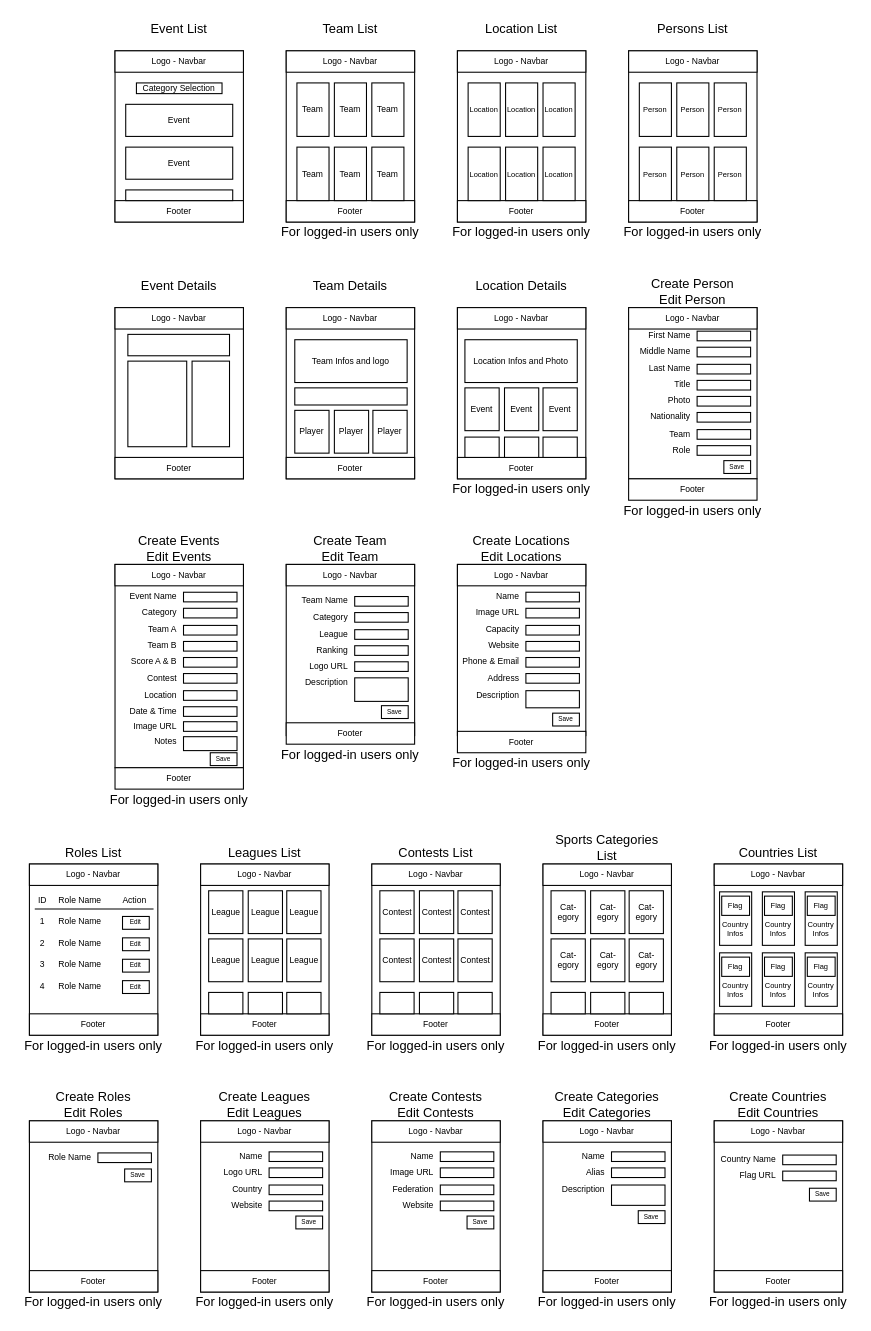
The diagram is 871 pixels wide and 1331 high, and some of its shapes have lost their labels. Here are the shapes that lost their labels. From the top down, the centre of each, then its label:
(x=178, y=344): Image
(x=157, y=403): Event Dates and Information
(x=210, y=403): Location Infos
(x=350, y=396): Country and League
